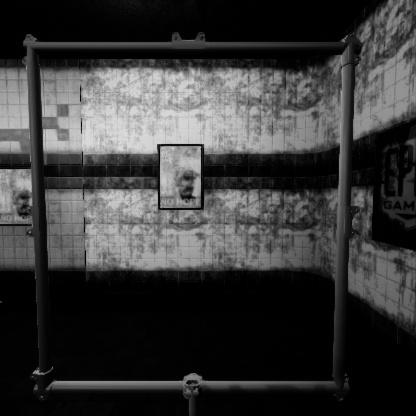gate: (26, 17, 391, 378)
